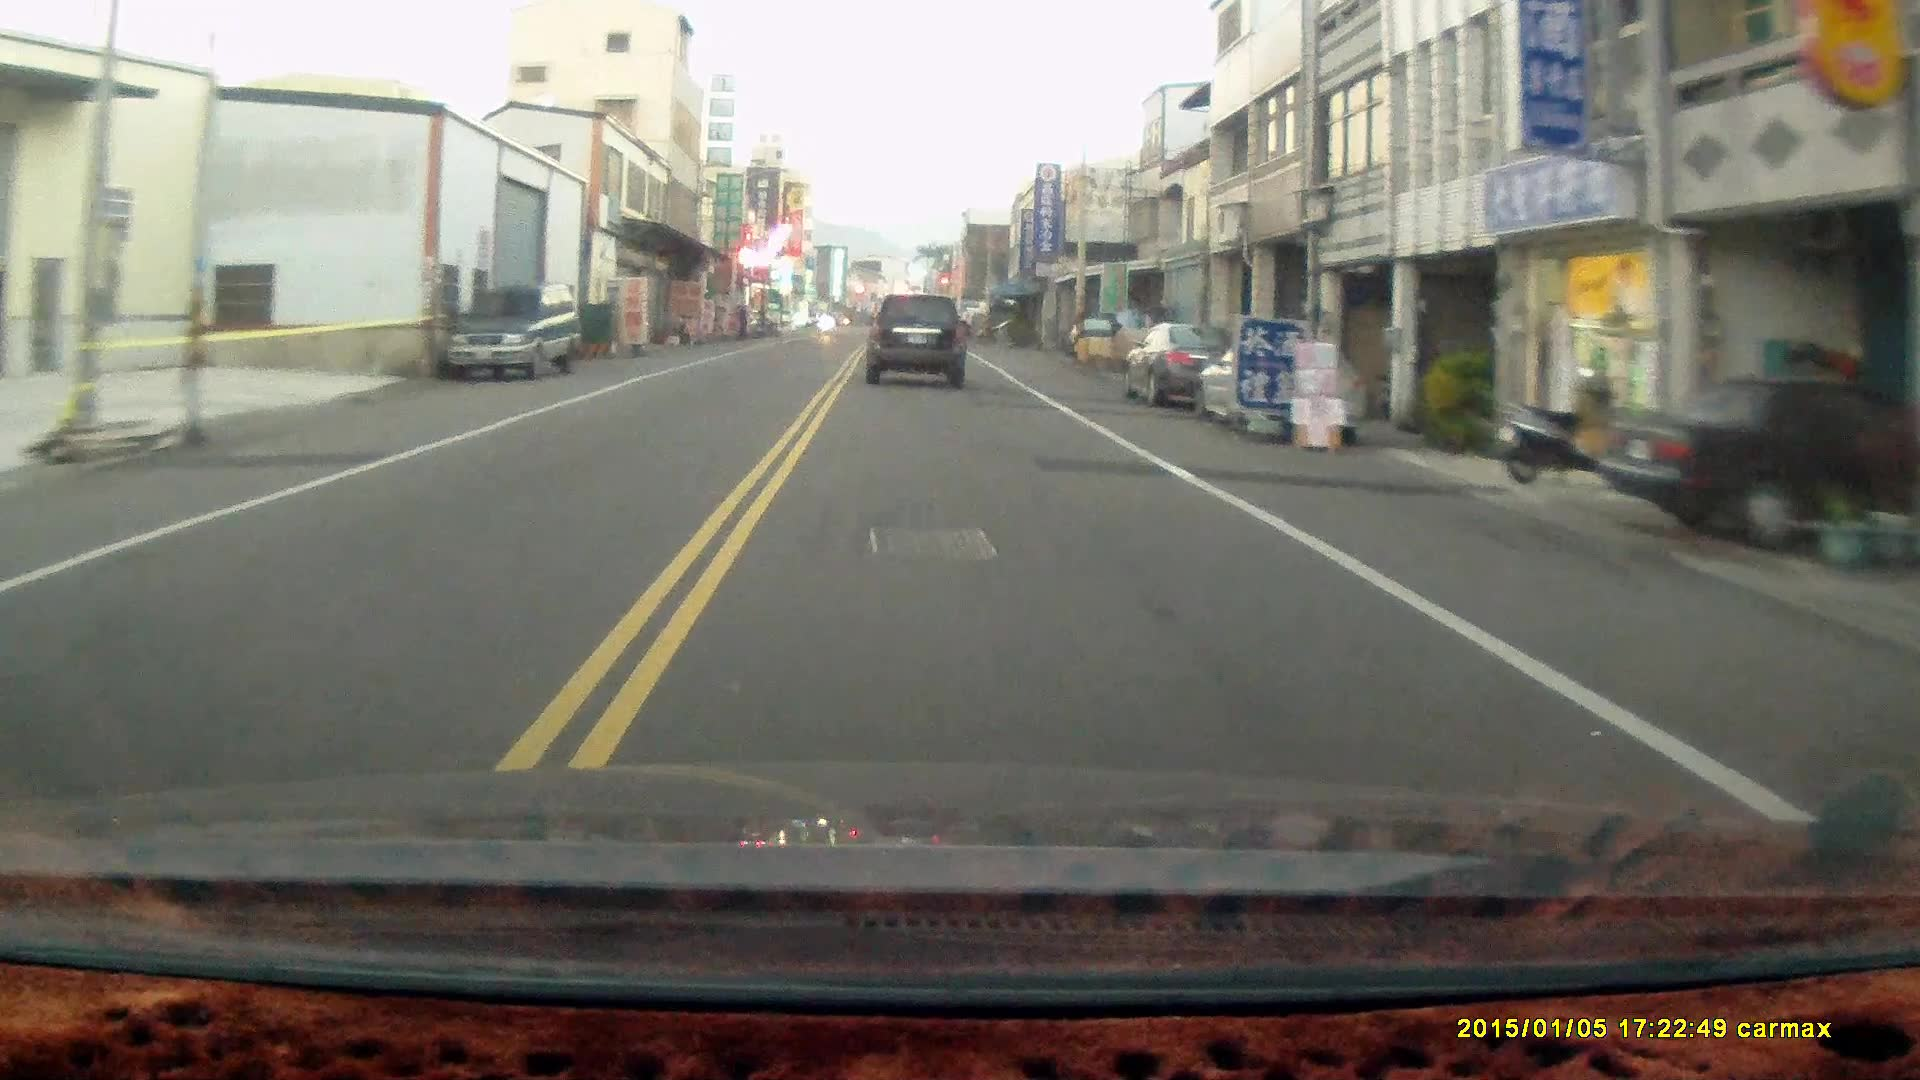vehicle: (1596, 371, 1920, 549), (1196, 339, 1374, 444), (444, 281, 580, 382), (865, 295, 971, 390), (1124, 320, 1241, 404)
